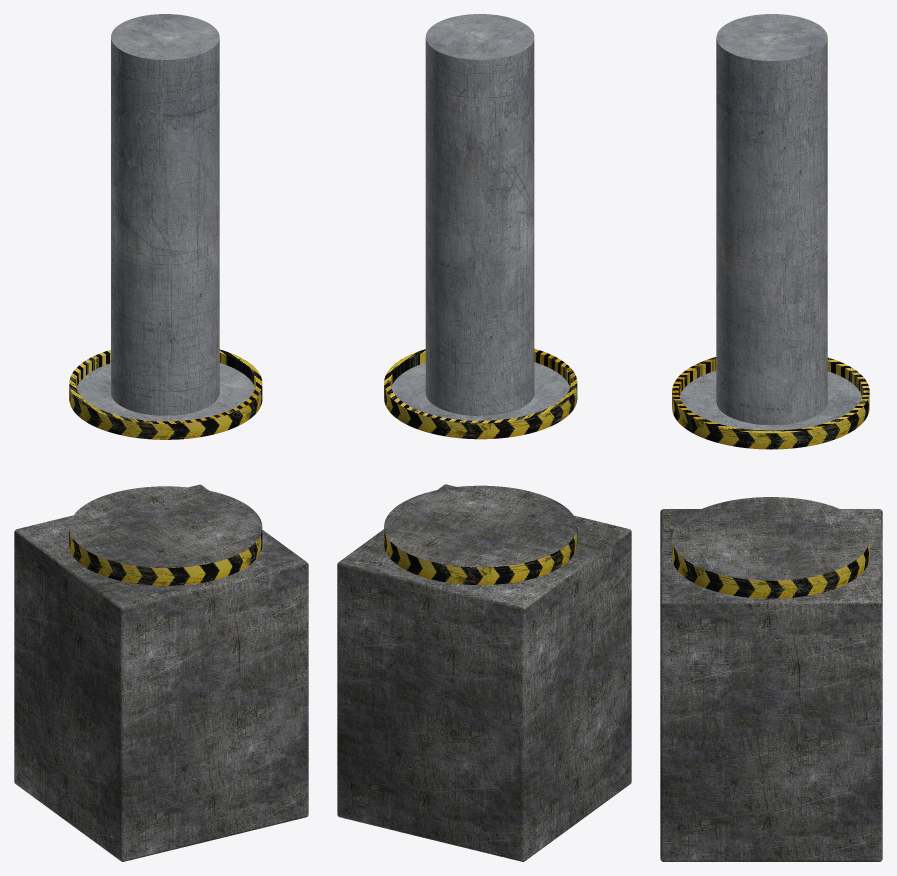
File: рррр.fbx
The picture shows the model from 3 angles, left to right: view 1: azimuth 30°, elevation 25°; view 2: azimuth 150°, elevation 25°; view 3: azimuth 270°, elevation 25°; orthographic projection. The views are drawn at different scales.
Parts seen in each view (by area): view 1: Cube, Cylinder_2_2, Cylinder_1, Cylinder_1_2, Cylinder, Cylinder_2; view 2: Cube, Cylinder_2_2, Cylinder_1, Cylinder_1_2, Cylinder, Cylinder_2; view 3: Cube, Cylinder_2_2, Cylinder_1, Cylinder_1_2, Cylinder, Cylinder_2.
Part boxes in pixels (left/top/right/bottom): Cube: left=14, top=484, right=308, bottom=861; Cylinder_2_2: left=111, top=14, right=219, bottom=415; Cylinder_1: left=69, top=486, right=262, bottom=567; Cylinder_1_2: left=69, top=349, right=262, bottom=439; Cylinder: left=69, top=529, right=262, bottom=585; Cylinder_2: left=76, top=363, right=255, bottom=421; Cube: left=337, top=484, right=631, bottom=861; Cylinder_2_2: left=425, top=14, right=534, bottom=415; Cylinder_1: left=384, top=485, right=577, bottom=567; Cylinder_1_2: left=384, top=348, right=577, bottom=439; Cylinder: left=384, top=527, right=577, bottom=584; Cylinder_2: left=391, top=362, right=569, bottom=420; Cube: left=660, top=509, right=882, bottom=861; Cylinder_2_2: left=716, top=14, right=827, bottom=425; Cylinder_1: left=672, top=497, right=869, bottom=580; Cylinder_1_2: left=672, top=357, right=869, bottom=449; Cylinder: left=672, top=540, right=869, bottom=598; Cylinder_2: left=679, top=370, right=862, bottom=430.
Bounding box in the file's own units: 200 × 775 × 200.
4 materials, 4 textured.
